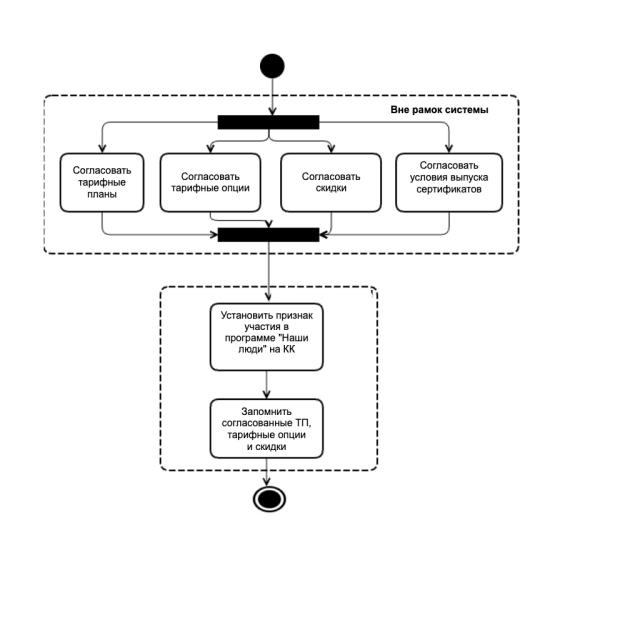arrow: (319, 118, 453, 152), (318, 213, 452, 241), (98, 120, 218, 151), (98, 213, 218, 243), (269, 130, 336, 153), (207, 129, 269, 152), (206, 212, 275, 227), (263, 242, 275, 301), (266, 78, 278, 116), (259, 372, 272, 400), (320, 215, 333, 239), (262, 460, 271, 486)
circle: (255, 49, 289, 83), (254, 486, 286, 511)
rectangle: (210, 303, 323, 371), (210, 399, 323, 458), (394, 152, 504, 212), (279, 153, 383, 214), (160, 152, 262, 212), (59, 154, 145, 213)
